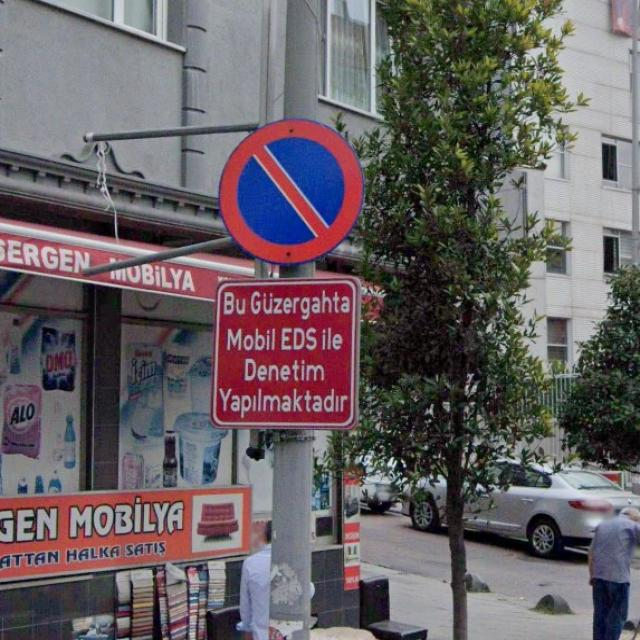parkyasak: (219, 118, 363, 264)
